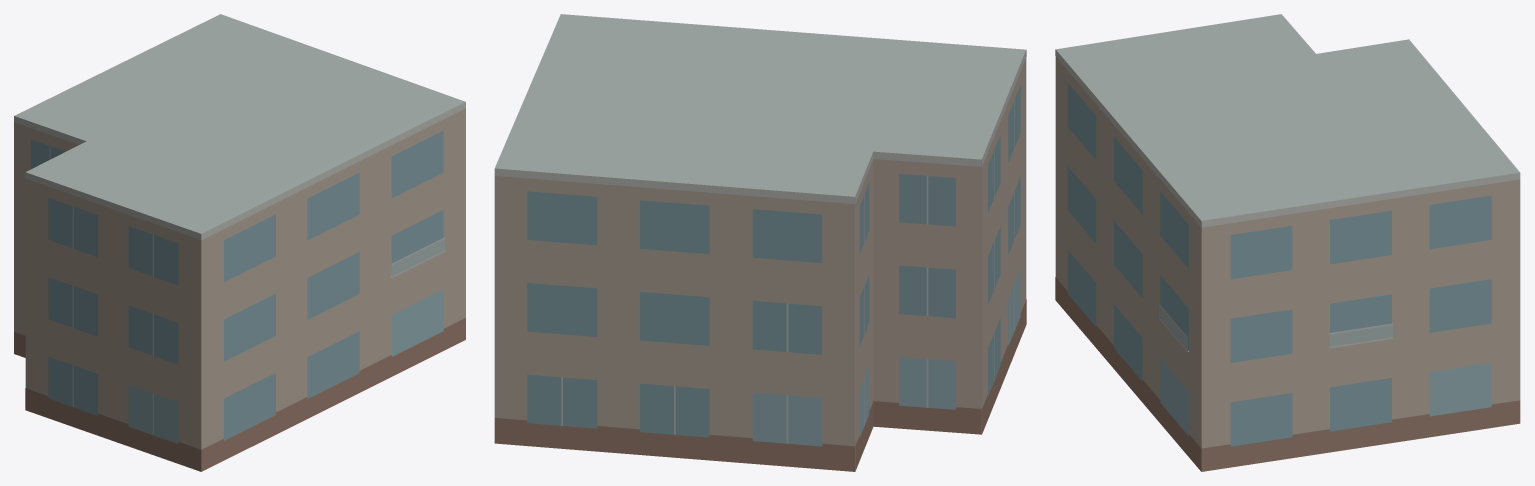
The model's file is survey-upis-32470514.glb.
3 renders of one model, left to right at view 1: azimuth 30°, elevation 25°; view 2: azimuth 150°, elevation 25°; view 3: azimuth 270°, elevation 25°, orthographic. The views are drawn at different scales.
Parts seen in each view (by area): view 1: survey-upis-32470514.tmp; view 2: survey-upis-32470514.tmp; view 3: survey-upis-32470514.tmp.
Part boxes in pixels (x1,y1,x2,y2): survey-upis-32470514.tmp: (14, 14, 465, 471); survey-upis-32470514.tmp: (494, 14, 1026, 471); survey-upis-32470514.tmp: (1055, 14, 1520, 471).
Bounding box in the file's own units: 16.2 × 9.15 × 15.37.
